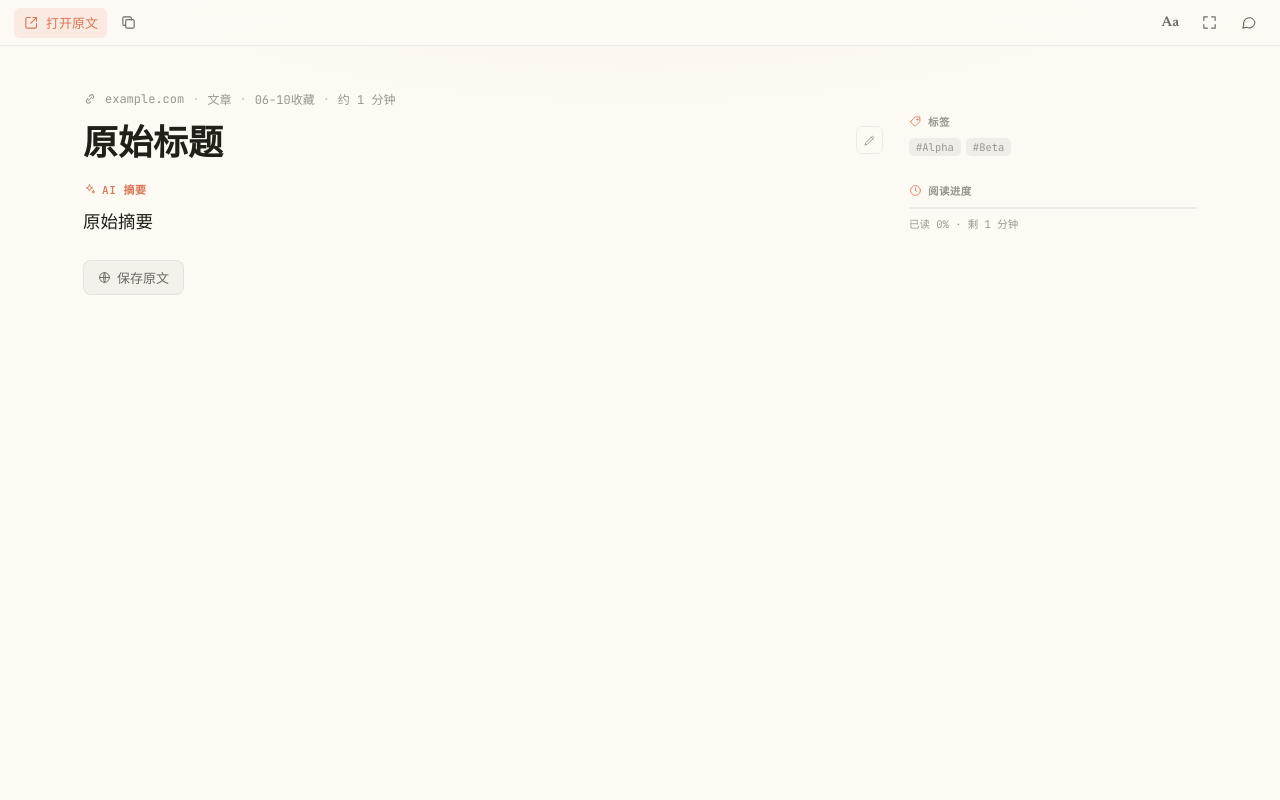
Scenario: DetailPane 链接信息编辑 › 从阅读资料打开草稿，取消后恢复原投影且不发起保存
The width and height of the screenshot is (1280, 800).
Click the button named "编辑链接信息": x=870, y=140 x1=856 y1=126 x2=883 y2=154
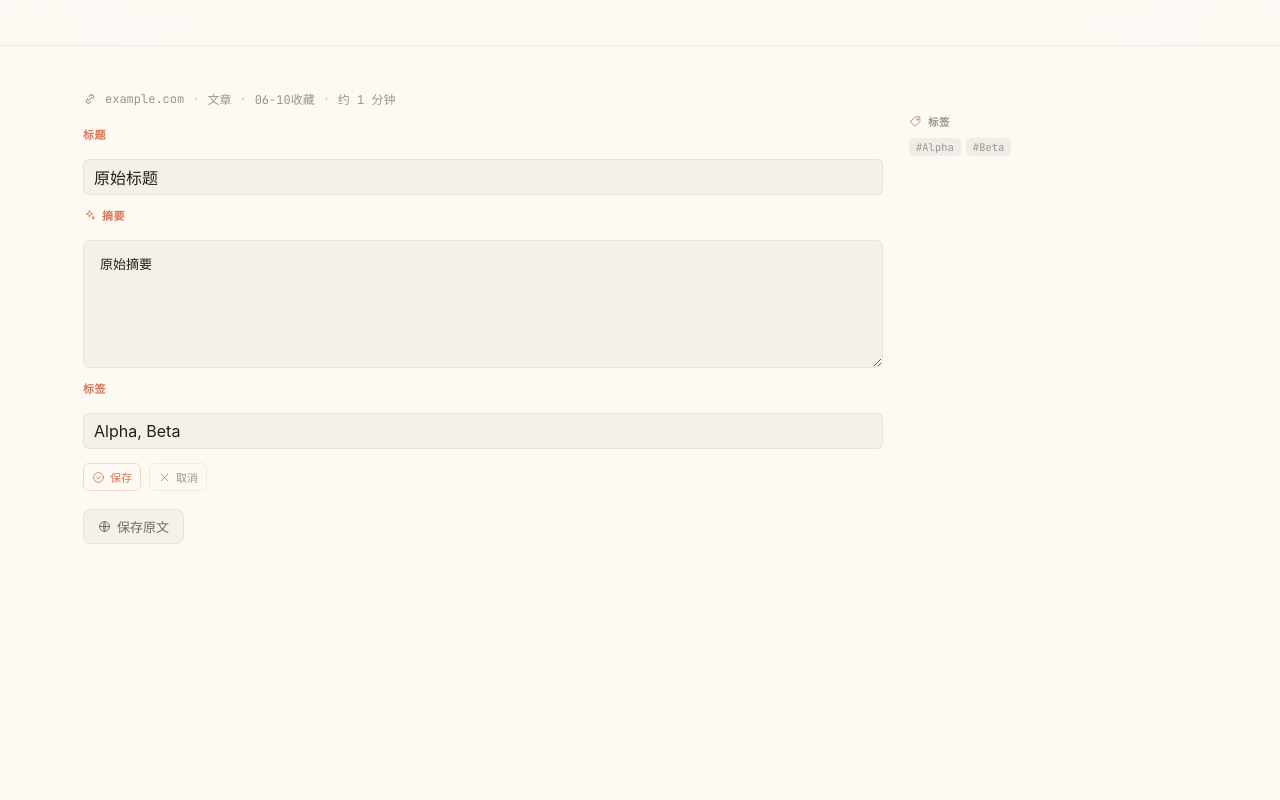
Result: the field named "链接标题" holds "原始标题"
Result: the text box named "链接摘要" holds "原始摘要" at x1=83 y1=240 x2=883 y2=368
Result: the field named "链接标签" holds "Alpha, Beta" at x1=83 y1=413 x2=883 y2=449
Replace the text in the field named "链接标题" with "未保存标题": x=483, y=177 x1=83 y1=159 x2=883 y2=195
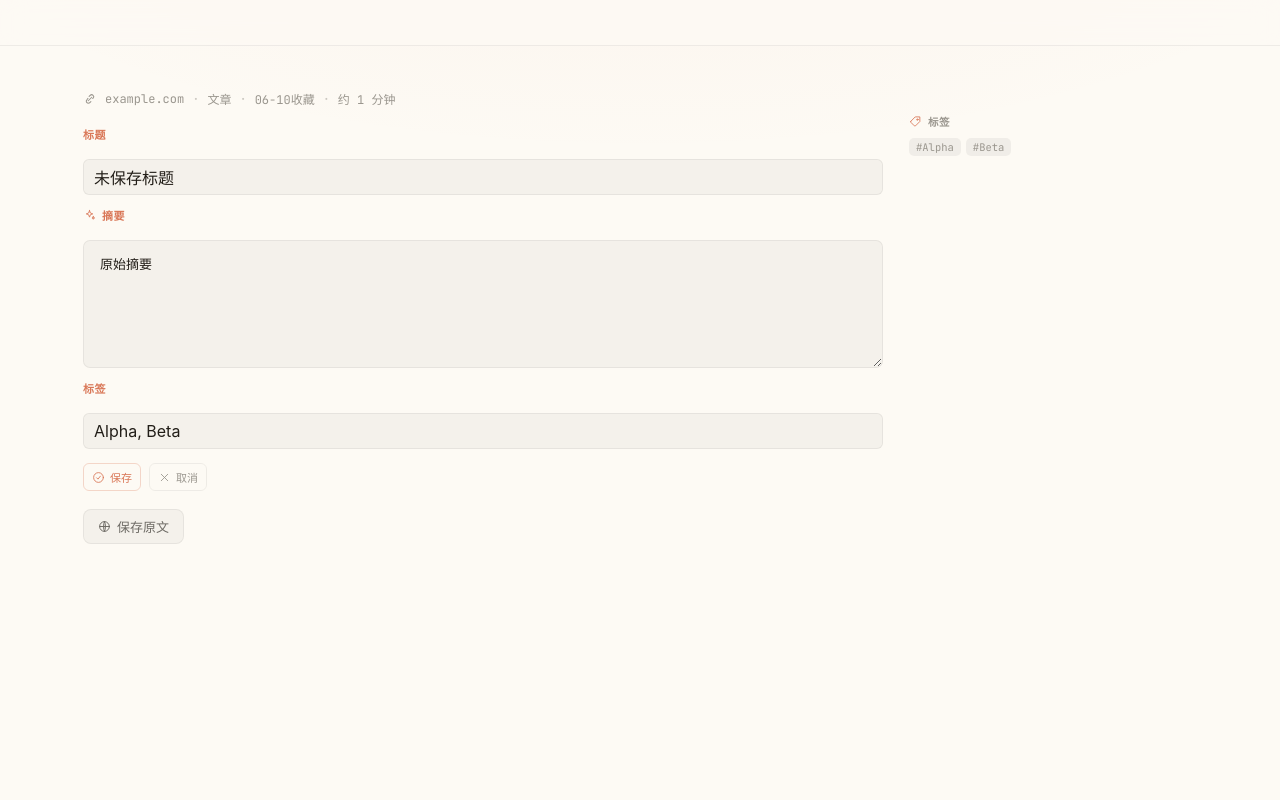
Replace the text in the text box named "链接摘要" with "未保存摘要": x=483, y=304 x1=83 y1=240 x2=883 y2=368
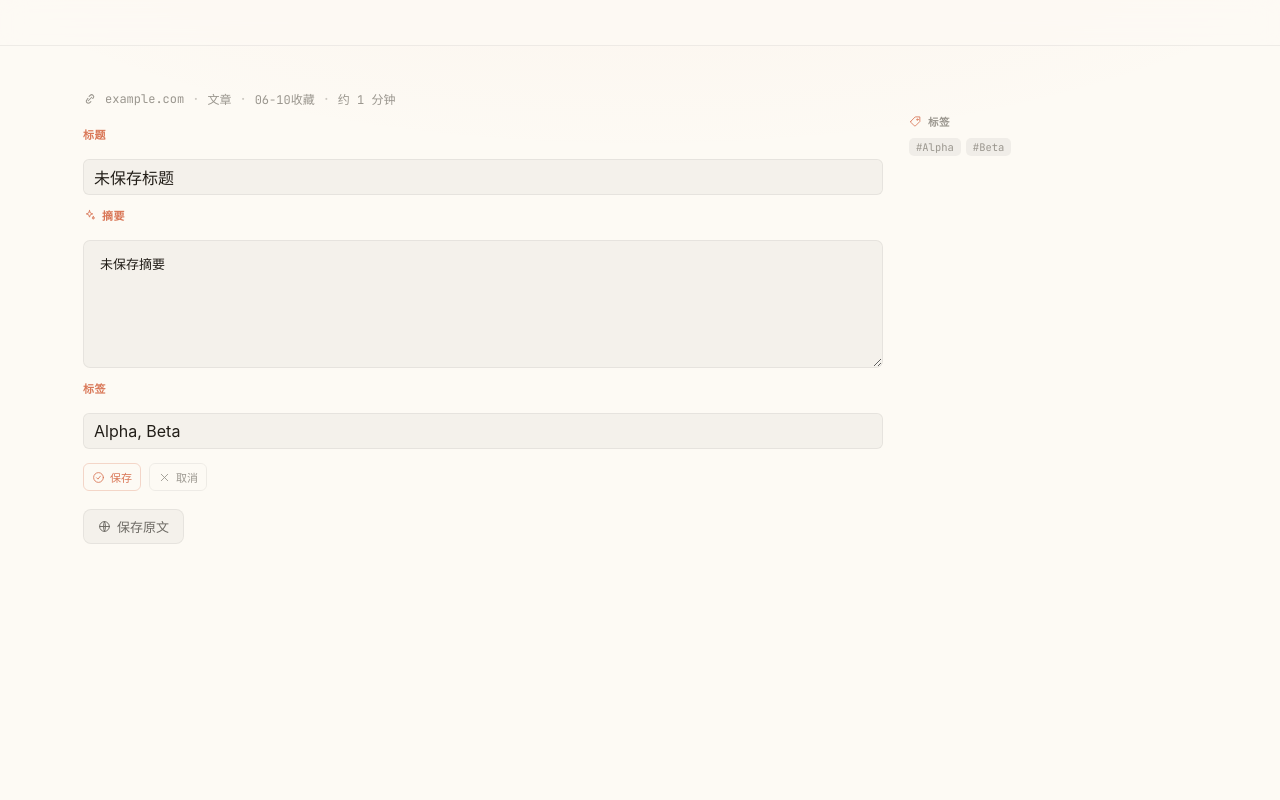
Click the button with aria-label "取消编辑链接信息": x=178, y=477 x1=149 y1=463 x2=207 y2=491
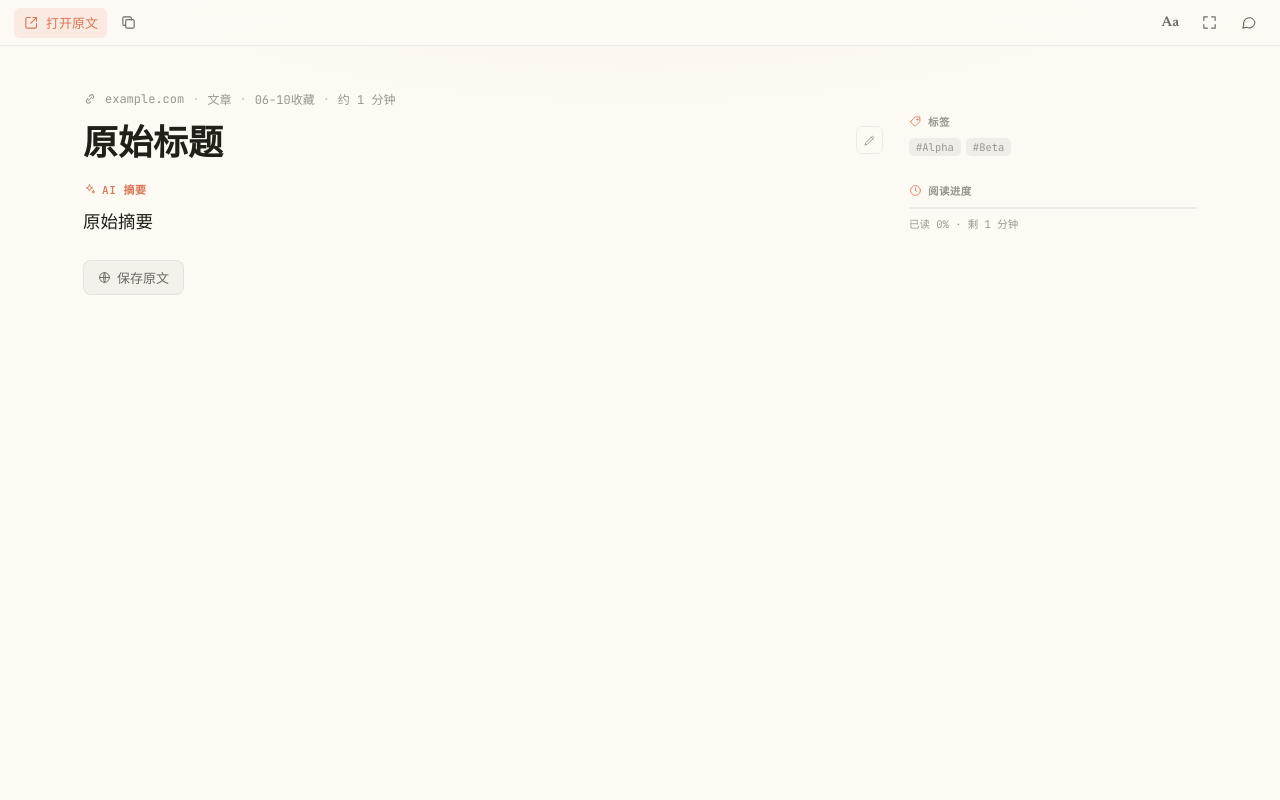
Result: the field labelled "链接标题" is gone
Result: the heading "原始标题" is shown at x1=83 y1=129 x2=223 y2=164
Result: the text "原始摘要" is shown at x1=83 y1=215 x2=153 y2=233
